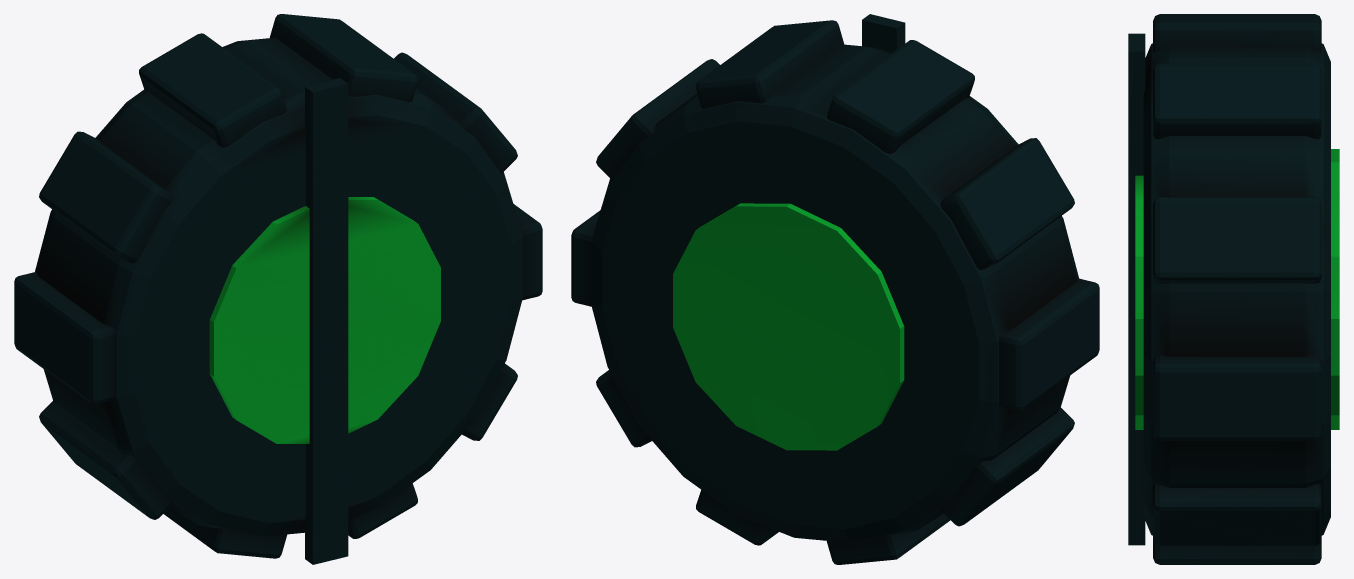
Rendered from part_spare.glb.
3 renders of one model, left to right at view 1: azimuth 30°, elevation 25°; view 2: azimuth 150°, elevation 25°; view 3: azimuth 270°, elevation 25°, orthographic. The views are drawn at different scales.
Parts seen in each view (by area): view 1: part_spare; view 2: part_spare; view 3: part_spare.
Boxes of the visible parts, box(x1,y1,x2,y2) form: part_spare: box(14, 14, 542, 564); part_spare: box(571, 14, 1099, 564); part_spare: box(1128, 14, 1339, 564).
Bounding box in the file's own units: 0.321 × 0.32 × 0.124.
Materials: 1 (1 with a texture image).
